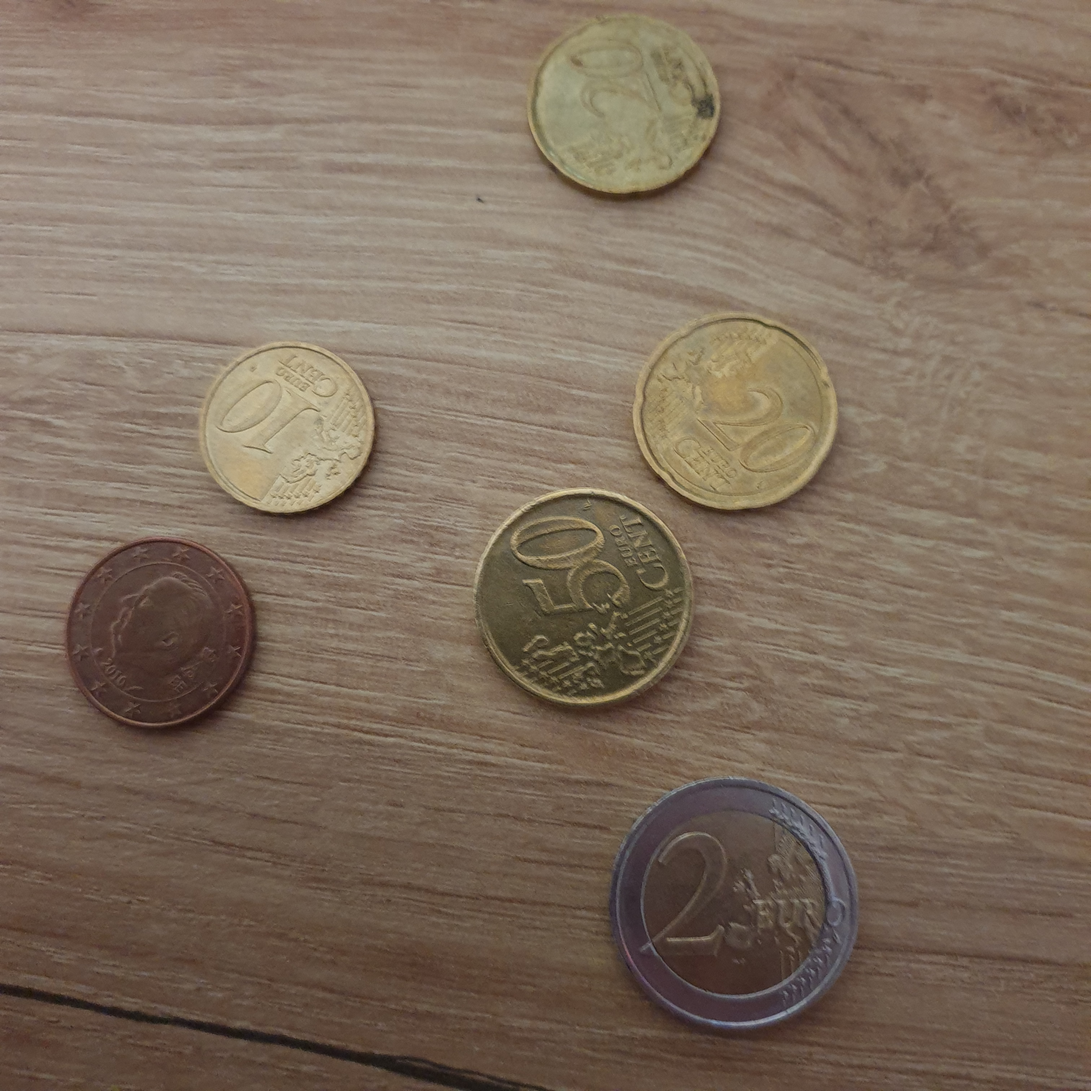10 cent: (202, 335, 377, 519)
2 euro: (603, 779, 860, 1036)
20 cent: (624, 297, 857, 528), (522, 15, 723, 196)
5 cent: (55, 533, 262, 736)
50 cent: (467, 484, 701, 721)
